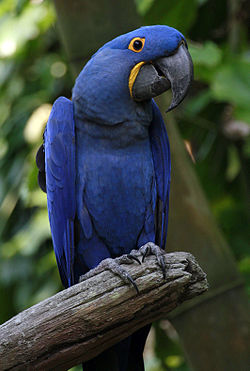guacamaya: (34, 22, 197, 371)
